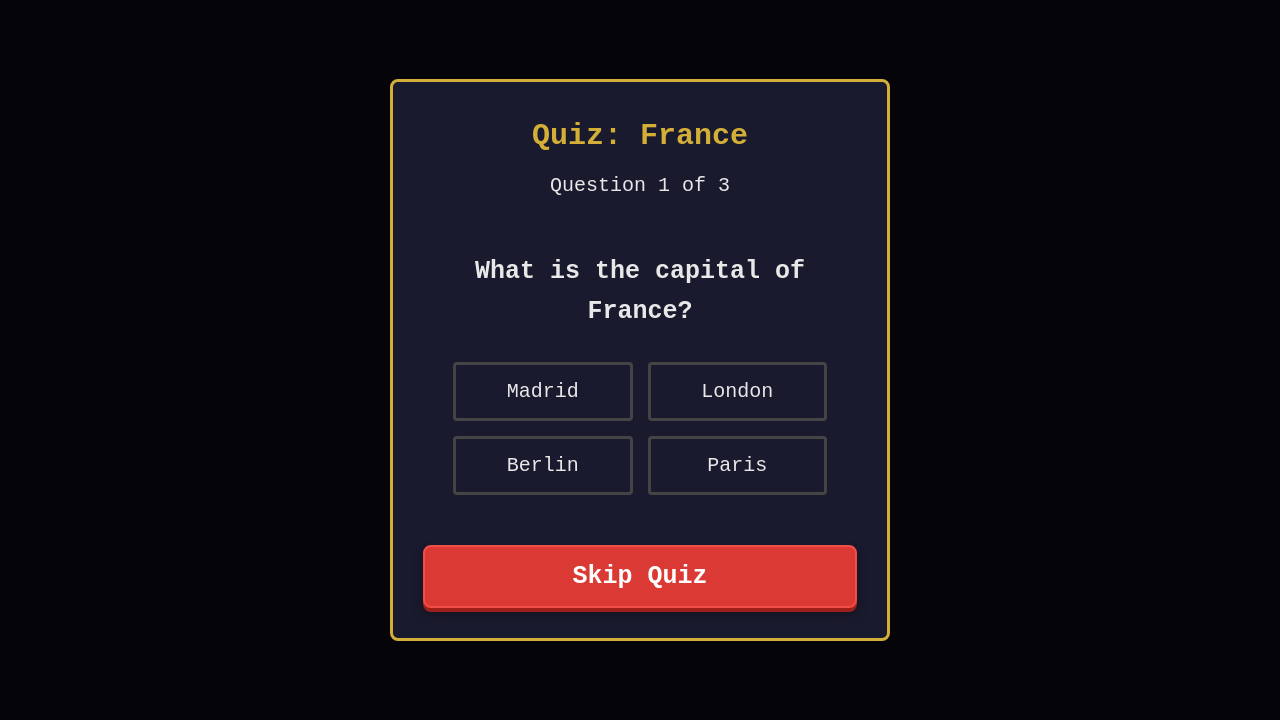
Test: QuizModal › question progression › Next button advances to next question
# Answer first question
Click the button "Paris" at (737, 466), box [648, 436, 827, 495]
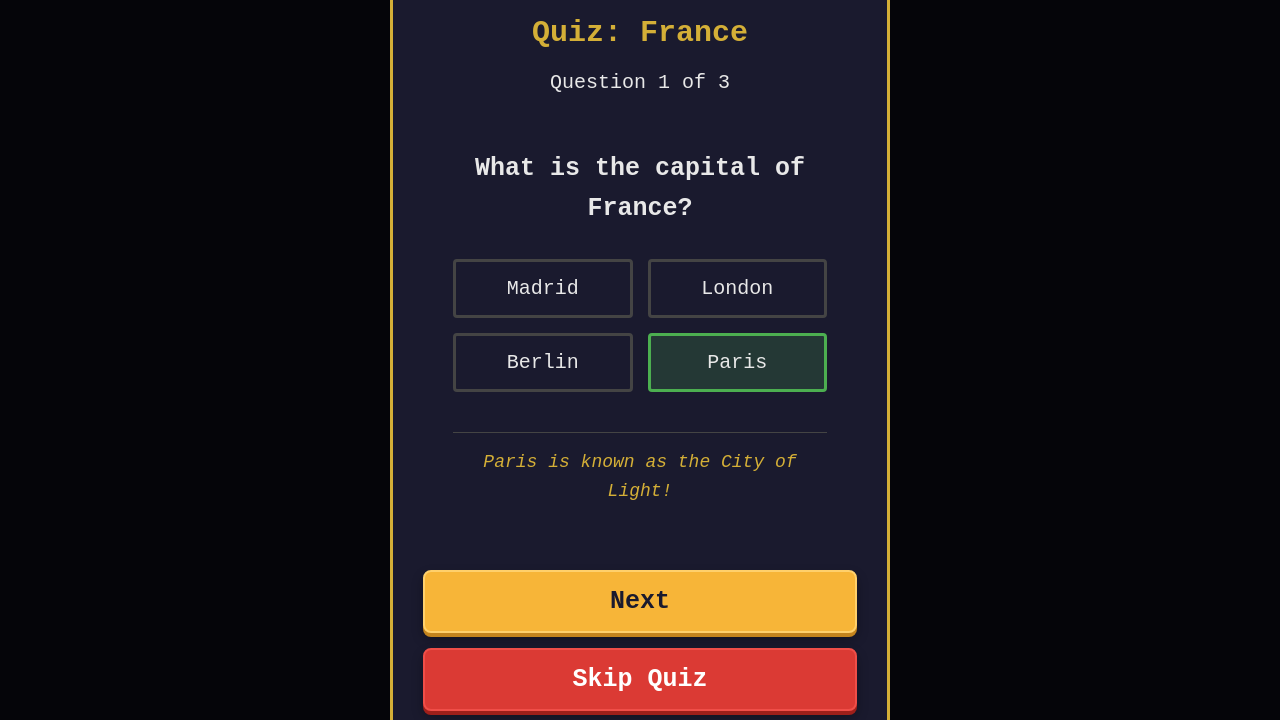
# Click Next
Click the button "Next" at (640, 602), box [423, 570, 857, 633]
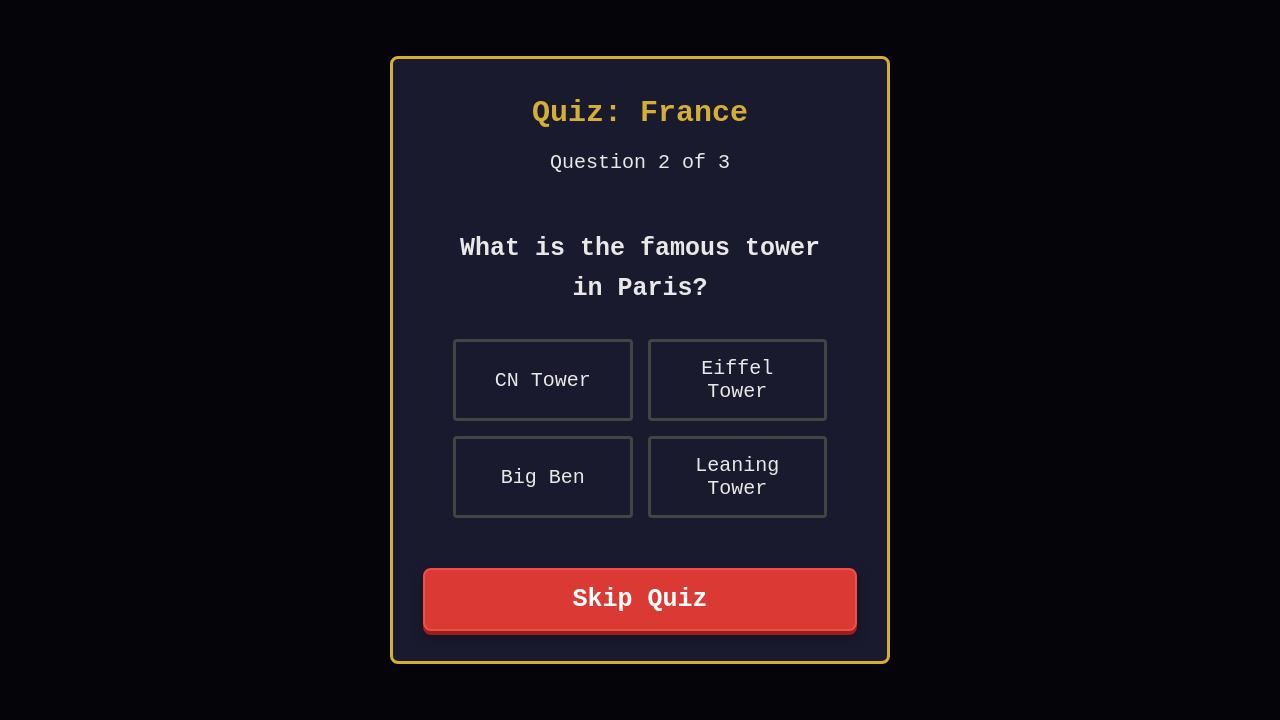
Check: the text "Question 2 of 3" is shown, box [550, 151, 730, 174]
Check: the heading "What is the famous tower in Paris?" is shown, box [453, 229, 827, 309]
